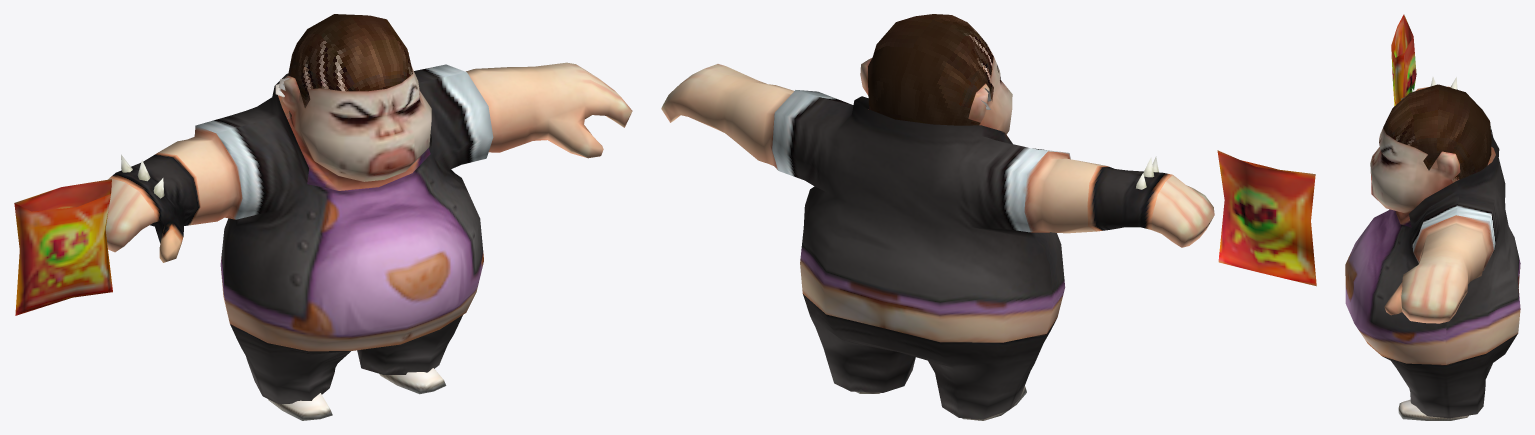
Rendered from boss1_m.fbx.
The picture shows the model from 3 angles, left to right: view 1: azimuth 30°, elevation 25°; view 2: azimuth 150°, elevation 25°; view 3: azimuth 270°, elevation 25°; orthographic projection. The views are drawn at different scales.
Visible parts, largest first — view 1: body, face, shupian, hair; view 2: body, hair, shupian, face; view 3: body, hair, face, shupian.
Boxes of the visible parts, <box> form: body: <box>105,62,632,420</box>; face: <box>280,52,431,190</box>; shupian: <box>14,179,112,315</box>; hair: <box>278,14,412,119</box>; body: <box>661,64,1214,420</box>; hair: <box>868,14,993,125</box>; shupian: <box>1217,150,1316,286</box>; face: <box>860,56,1012,134</box>; body: <box>1345,77,1520,420</box>; hair: <box>1383,84,1495,182</box>; face: <box>1370,128,1460,227</box>; shupian: <box>1391,14,1416,105</box>.
Bounding box in the file's own units: 3.3 × 1.87 × 0.9862.
3 materials, 3 textured.
